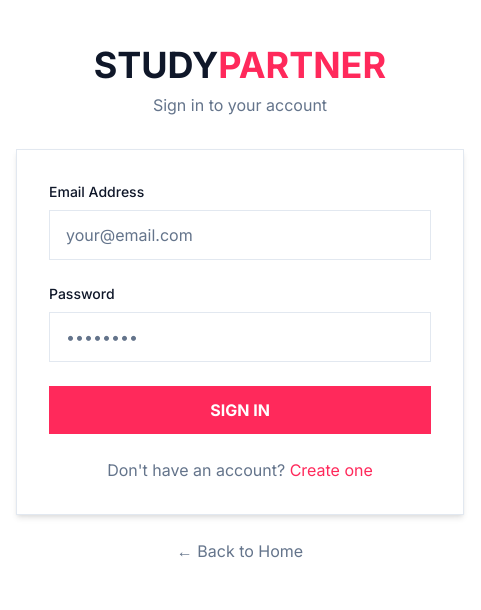
Test: Login Page › should display error on failed login
Type "wrong@example.com" into the field with placeholder "your@email.com". click: coordinates (240, 235)
box: [49,210,431,260]
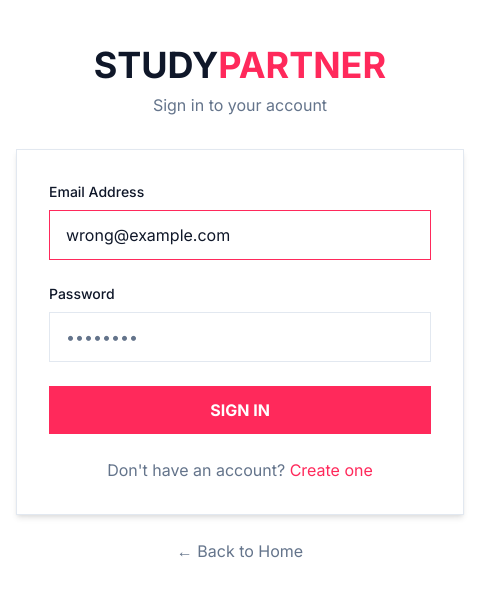
Type "WrongPass" into the password field labelled "Password". click: coordinates (240, 337)
box: [49,312,431,362]
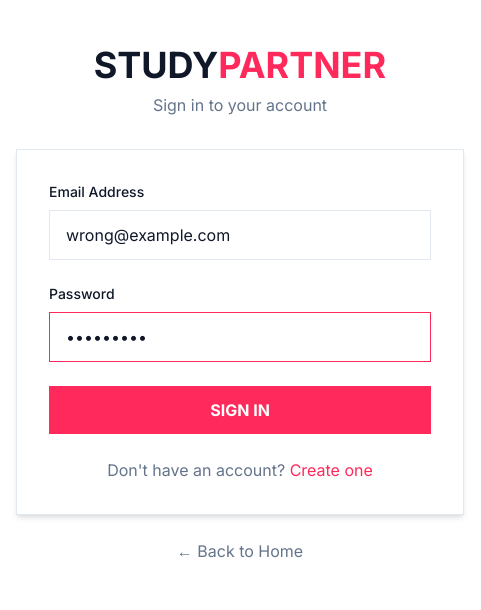
Click the button. click: coordinates (240, 410)
box: [49,386,431,434]
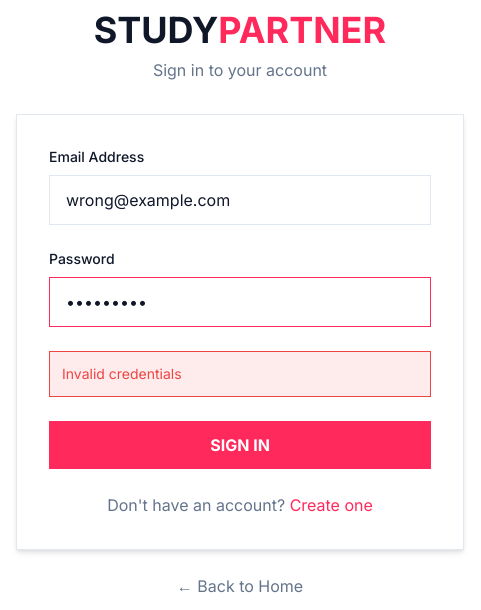
Check: the text "Invalid credentials" is shown, box [49,351,431,397]
